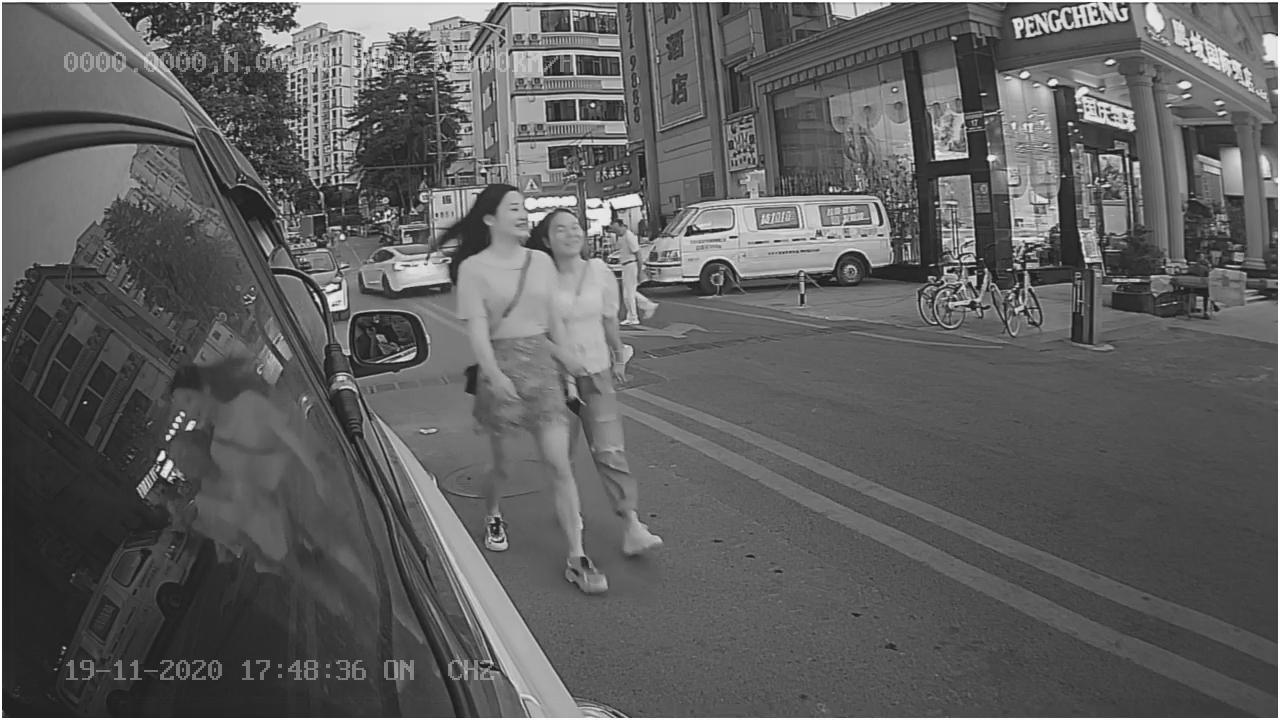person: (445, 182, 586, 480)
